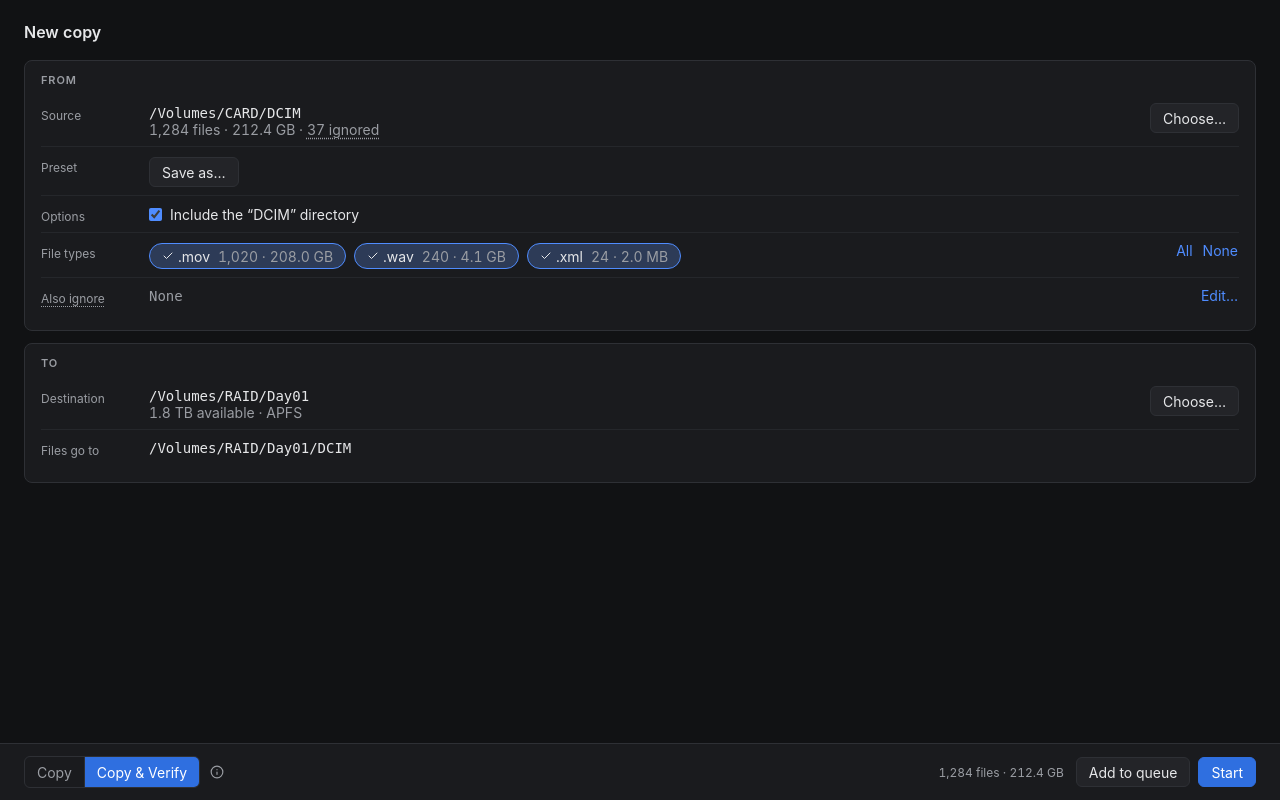
Scenario: Setup › Esc closes Save as…
The image size is (1280, 800).
Click the button "Save as…" at (194, 172), box 149,157 -> 238,187
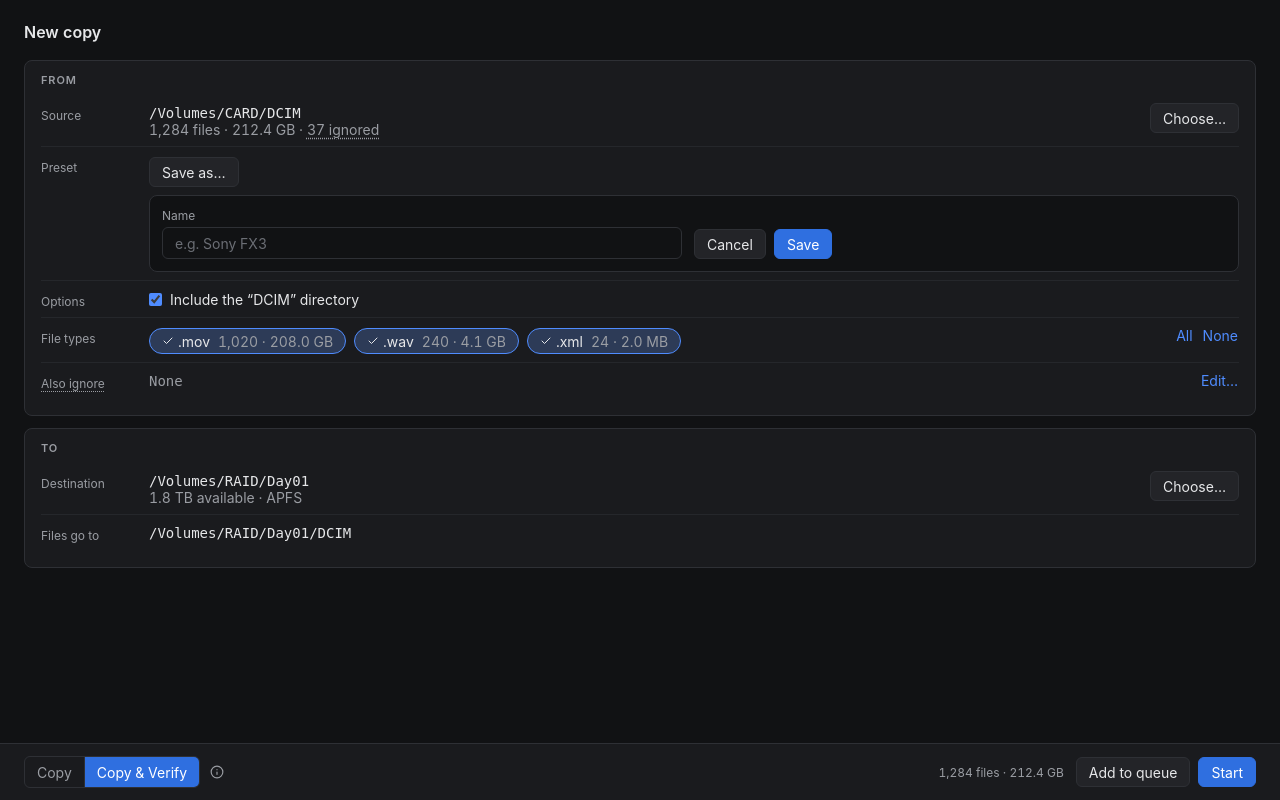
Press Escape in the form "Name", box 149,195 -> 1239,272
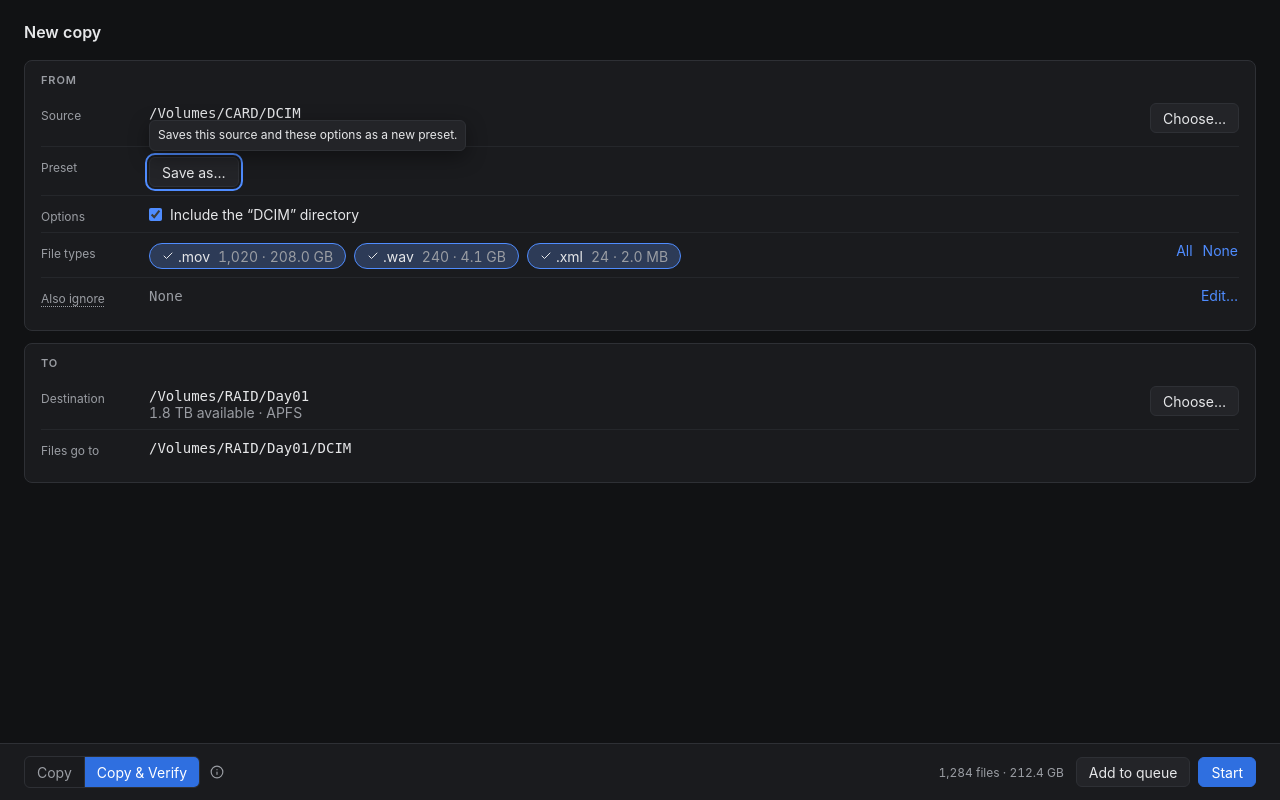
Expected: the label "Name" is gone
